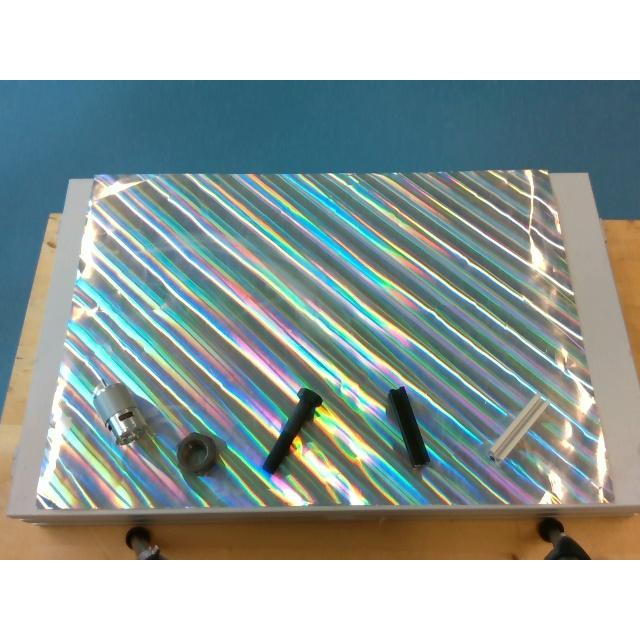F20_20_B: (388, 386, 428, 470)
F20_20_G: (489, 394, 547, 462)
M20_100: (262, 388, 322, 472)
M30: (177, 434, 217, 474)
Motor2: (93, 381, 155, 445)
